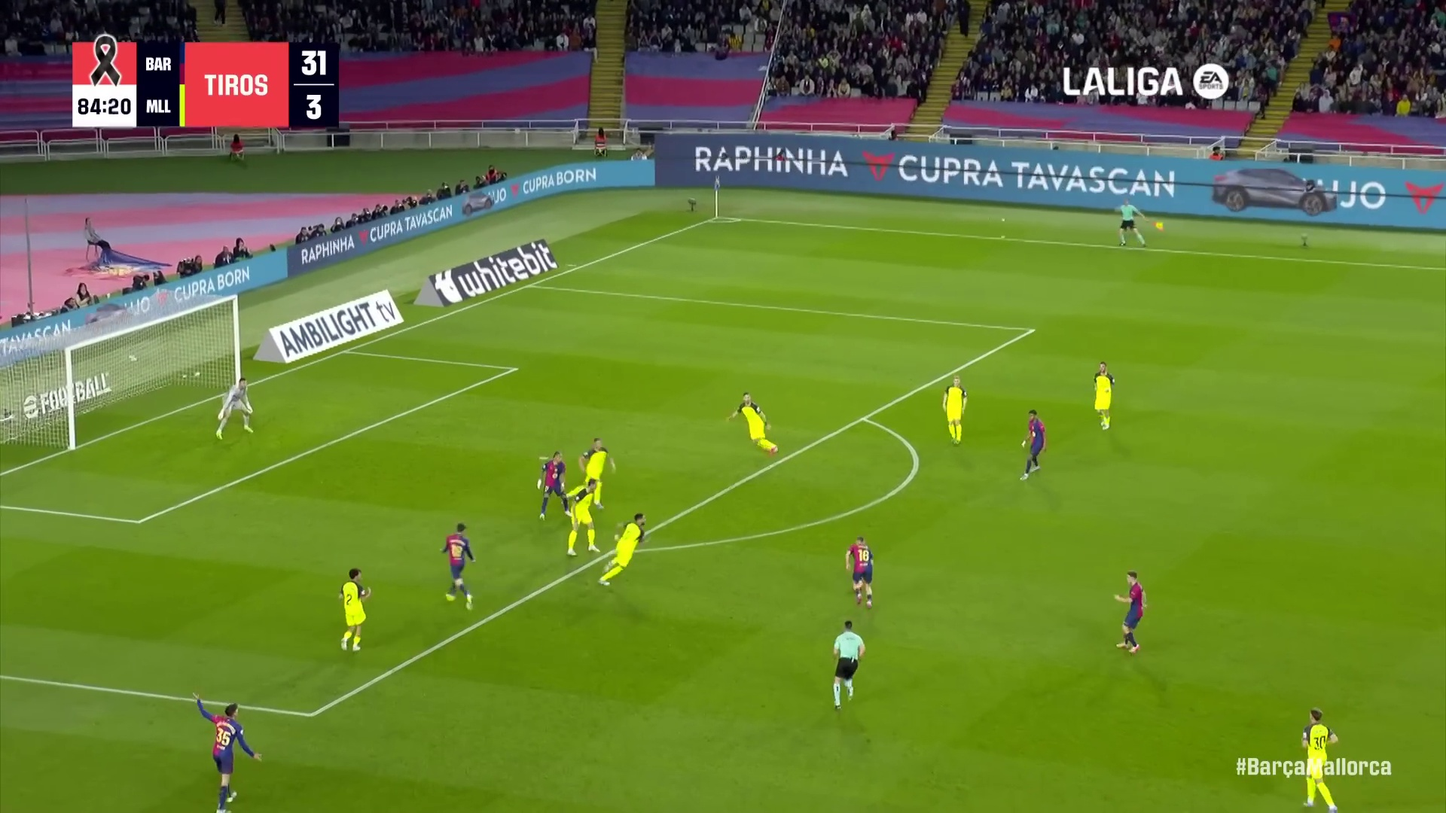ball: (852, 581, 863, 591)
player: (186, 692, 264, 813), (1295, 706, 1343, 813), (597, 512, 651, 589), (724, 391, 782, 459), (437, 521, 480, 611), (333, 566, 376, 656), (1110, 569, 1151, 655), (563, 479, 602, 558), (578, 436, 618, 510), (842, 534, 878, 609), (1016, 408, 1052, 482), (536, 451, 573, 521), (215, 378, 255, 440), (938, 375, 971, 447), (1088, 361, 1119, 432), (531, 486, 532, 487)
referee: (827, 619, 868, 711), (1113, 200, 1147, 250)
